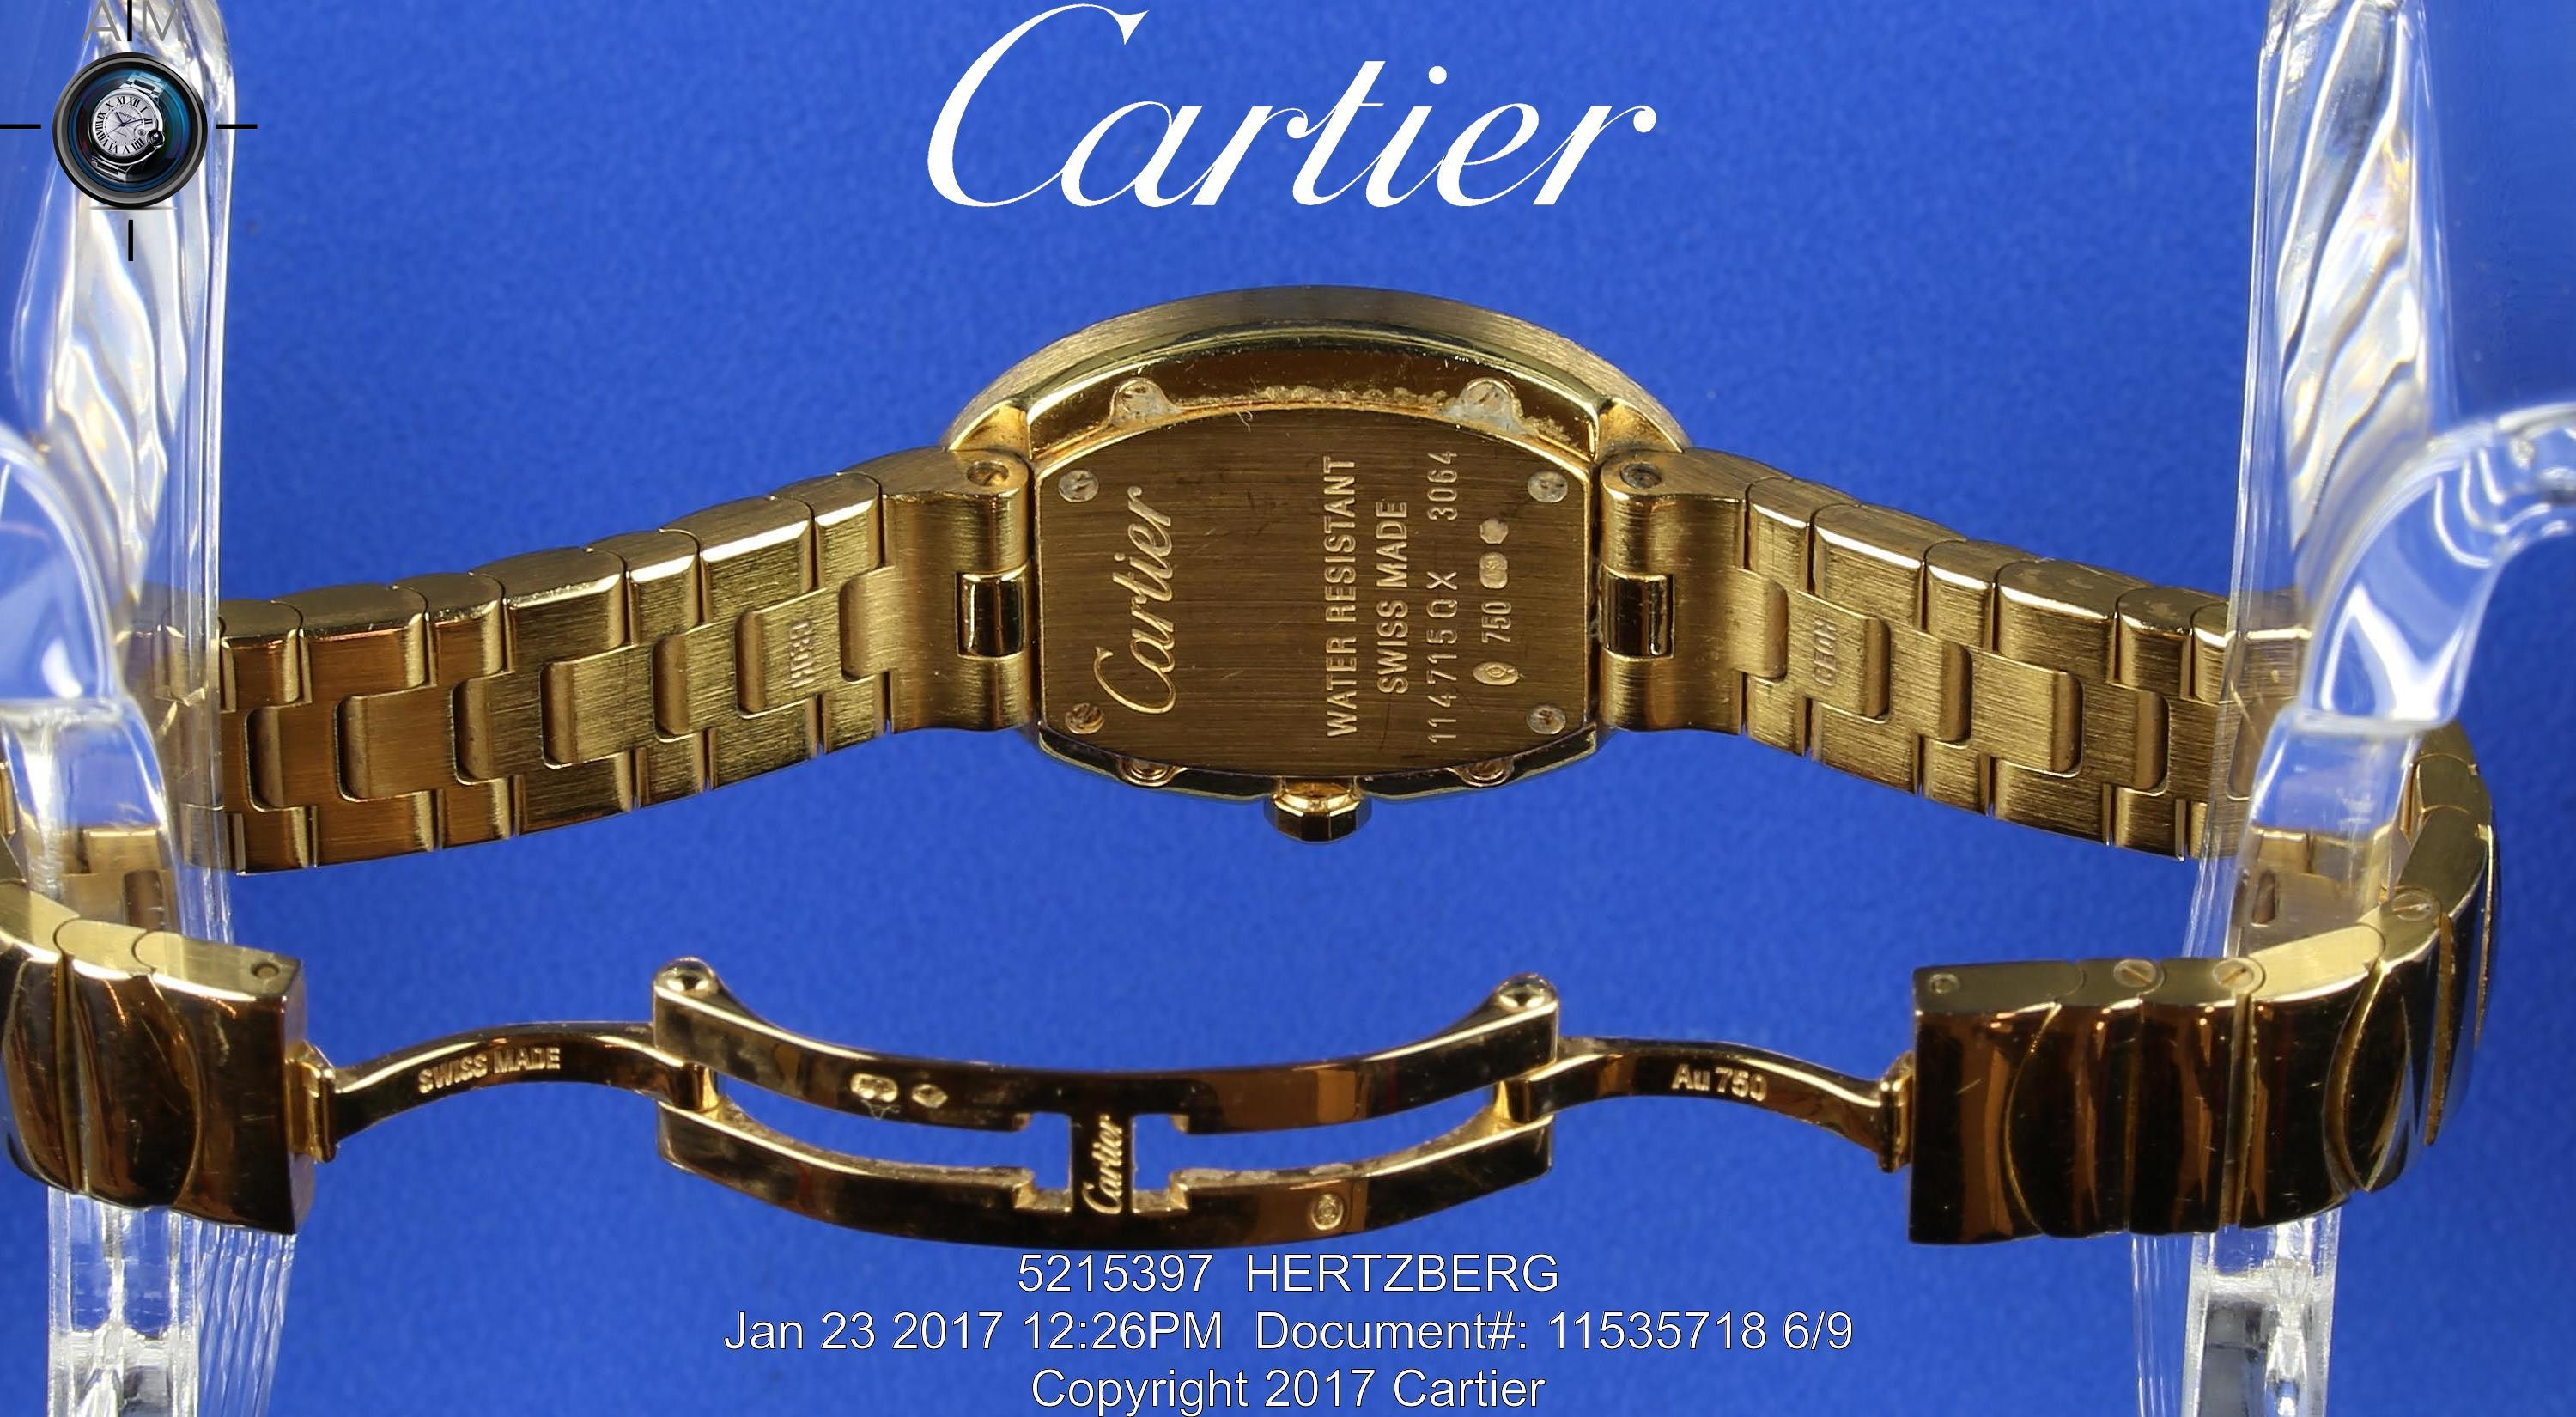Watch Back Case: (951, 279, 1704, 857)
